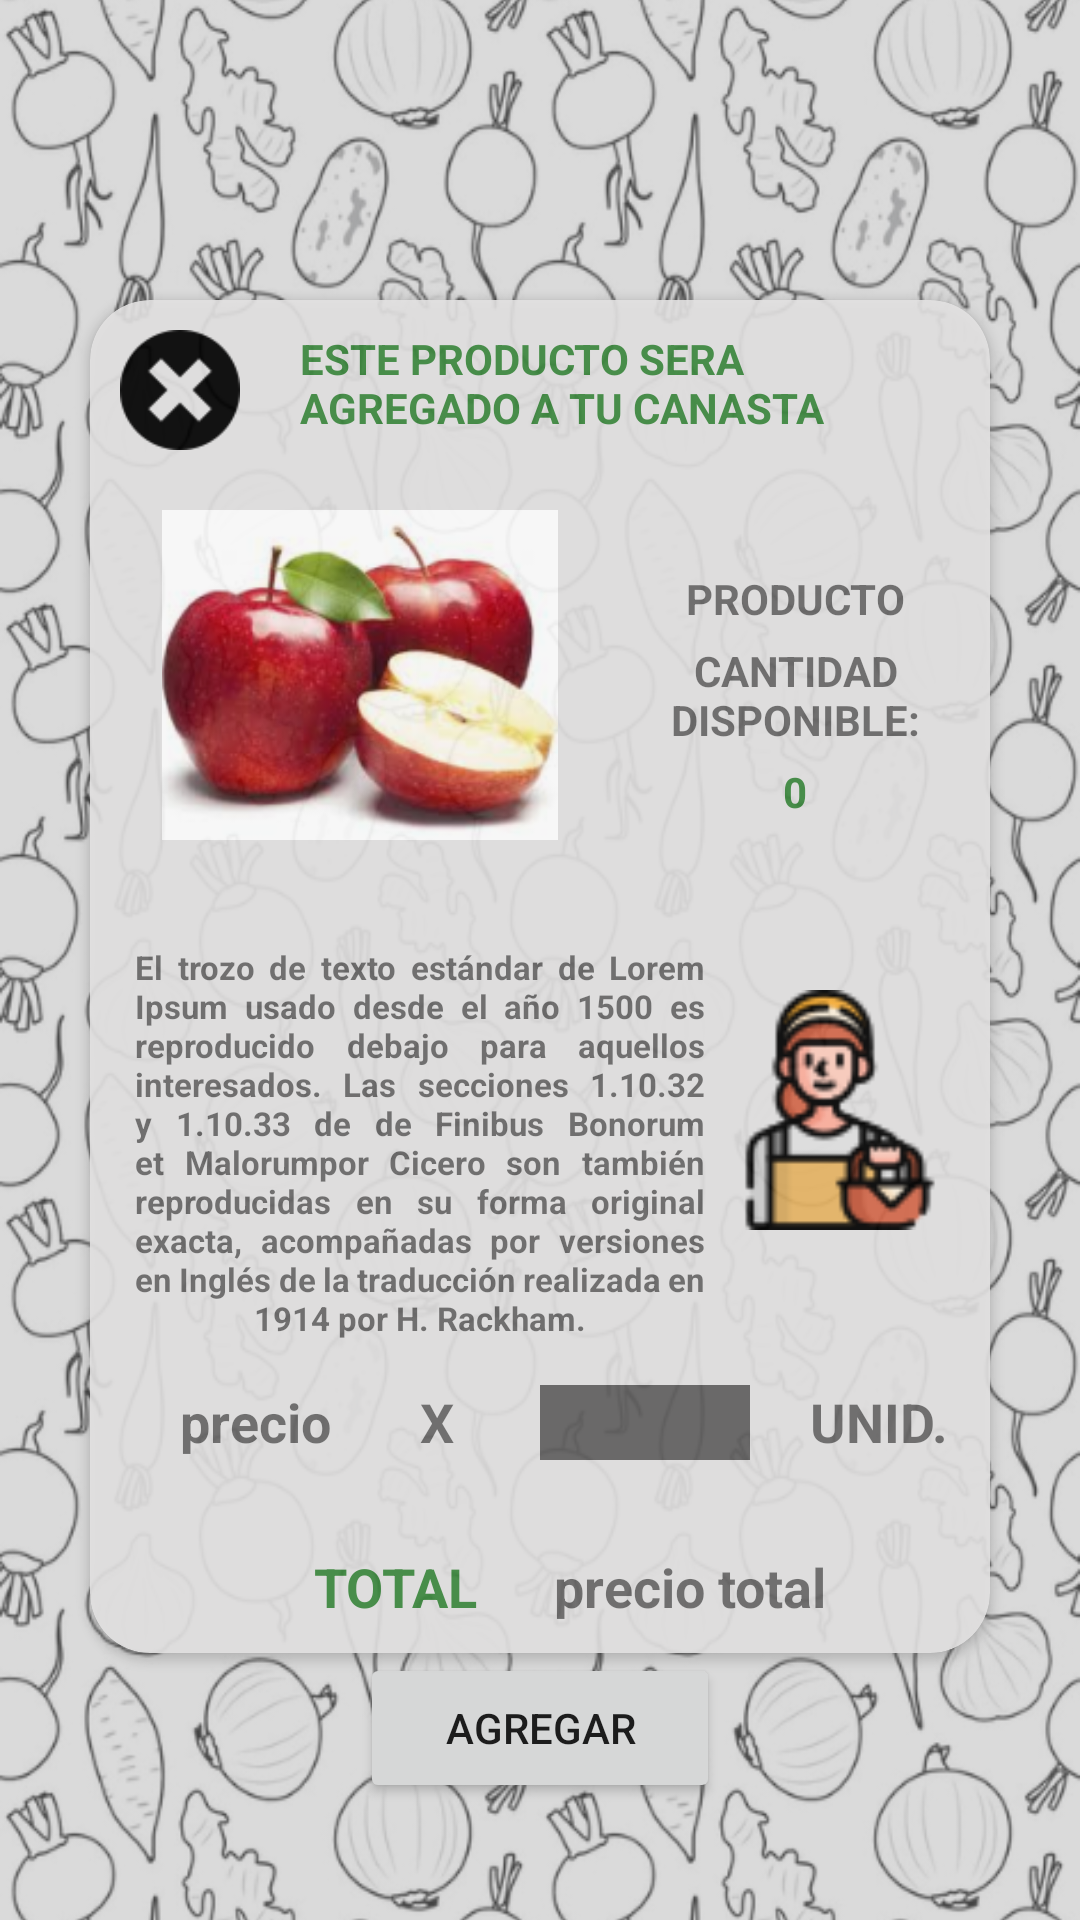

Where to tap for icons on this 1080 × 1920 app screen, as (x=x, y=y):
campesino des: (x=840, y=1110)
cerrar: (x=180, y=390)
